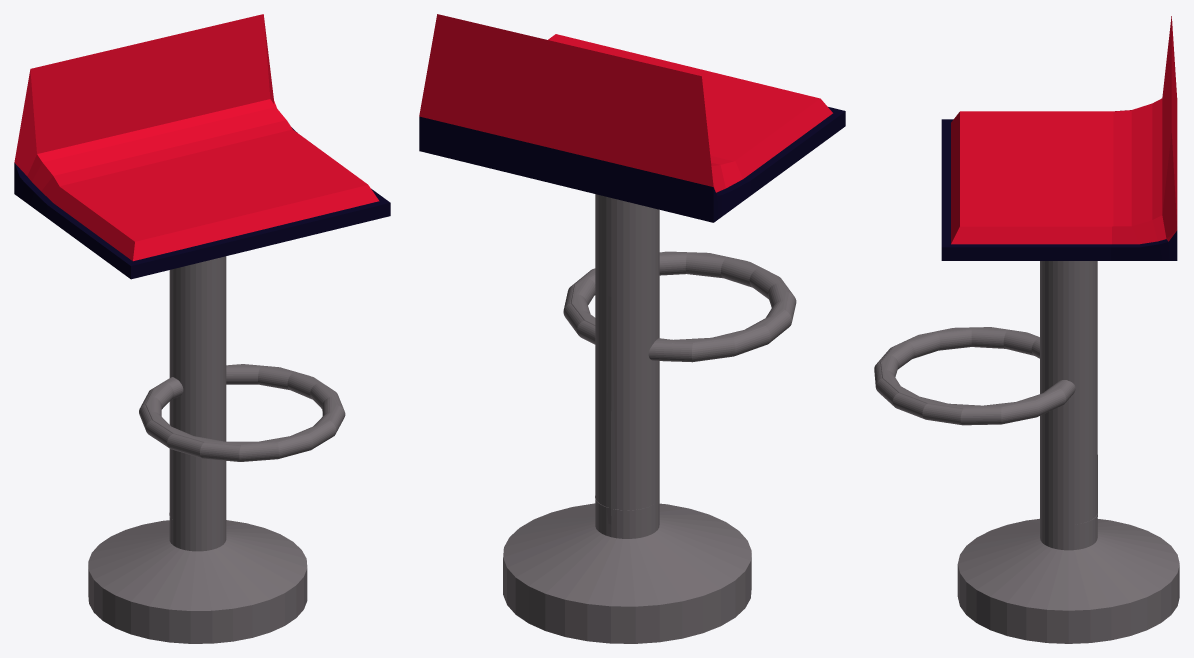
The model's file is Silla.fbx.
The picture shows the model from 3 angles, left to right: view 1: azimuth 30°, elevation 25°; view 2: azimuth 150°, elevation 25°; view 3: azimuth 270°, elevation 25°; orthographic projection. The views are drawn at different scales.
Parts seen in each view (by area): view 1: Cilindro.001; view 2: Cilindro.001; view 3: Cilindro.001.
Part boxes in pixels (box(x1,y1,x2,y2)): Cilindro.001: box(14, 14, 390, 643); Cilindro.001: box(419, 14, 845, 643); Cilindro.001: box(874, 16, 1179, 643).
Size of the model in its own units: 224 by 426 by 224.
